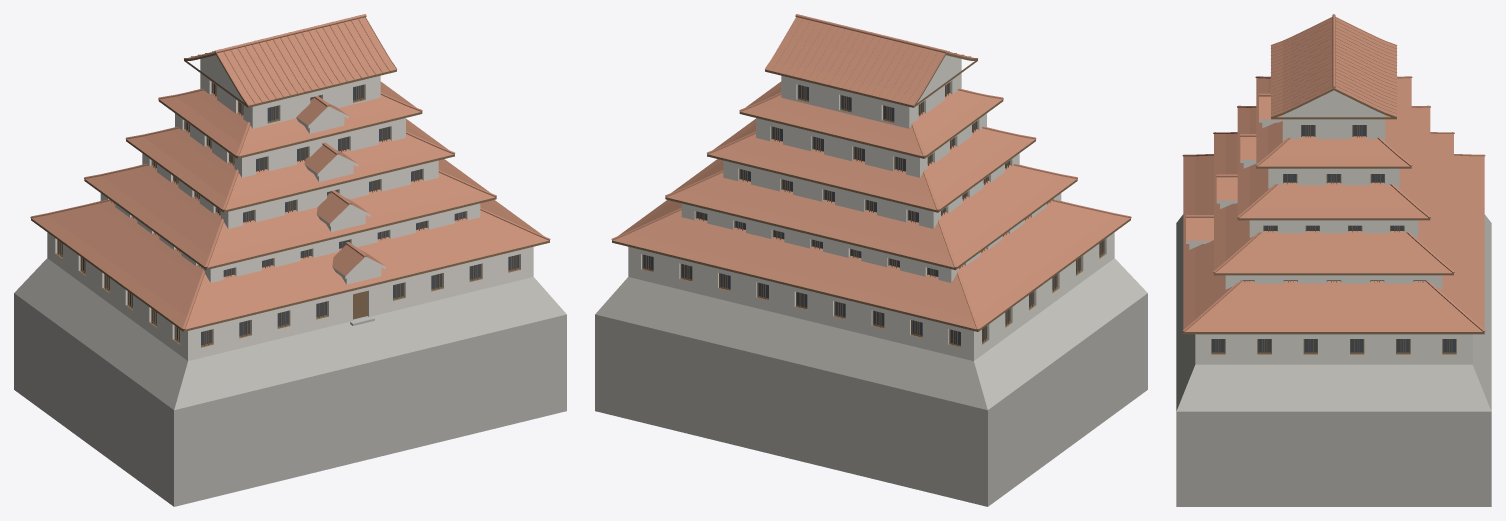
The model's file is japanese_castle_5_l.glb.
3 views of the same model, side by side, from view 1: azimuth 30°, elevation 25°; view 2: azimuth 150°, elevation 25°; view 3: azimuth 270°, elevation 25° (orthographic).
Visible parts, largest first — view 1: japanese_castle_5_l; view 2: japanese_castle_5_l; view 3: japanese_castle_5_l.
Part boxes in pixels (x1,y1,x2,y2): japanese_castle_5_l: (14, 14, 566, 506); japanese_castle_5_l: (595, 14, 1147, 506); japanese_castle_5_l: (1176, 14, 1491, 506).
Bounding box in the file's own units: 34 × 30.45 × 24.
